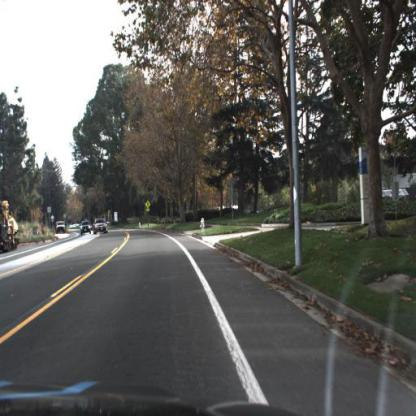car: (92, 216, 110, 235), (54, 219, 66, 234), (80, 219, 91, 235)
